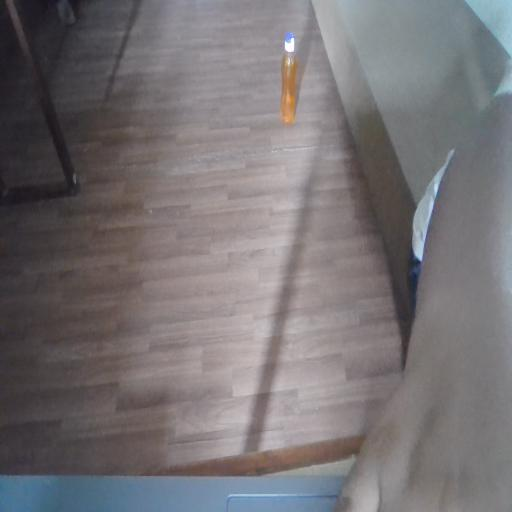Bottle: (276, 26, 301, 173)
